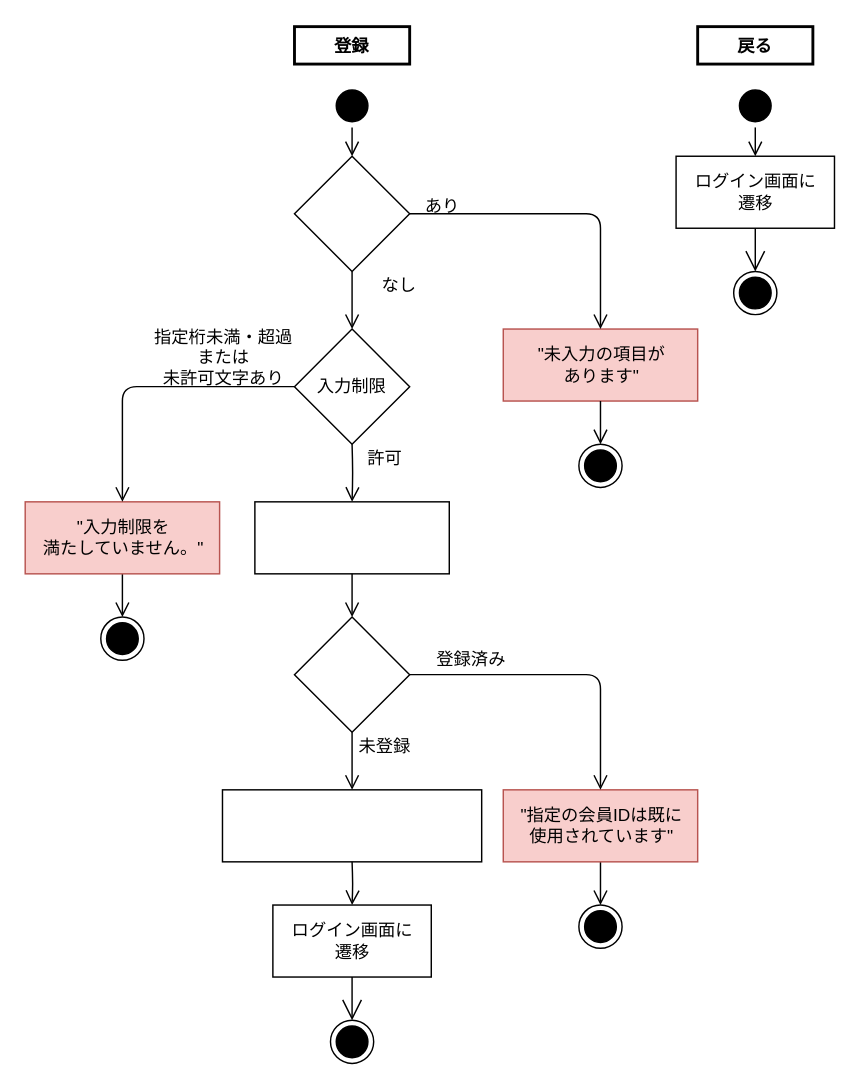
Some shapes in this 860 by 1089 pixel diagram are drawn without their labels. Each missing label, with the centre of its shape:
会員ID: the point at 351,674
会員情報.csvから 会員情報を取得: the point at 351,537
入力された会員情報を追加し、 会員情報.csvを上書き: the point at 351,825
未入力項目: the point at 351,213
